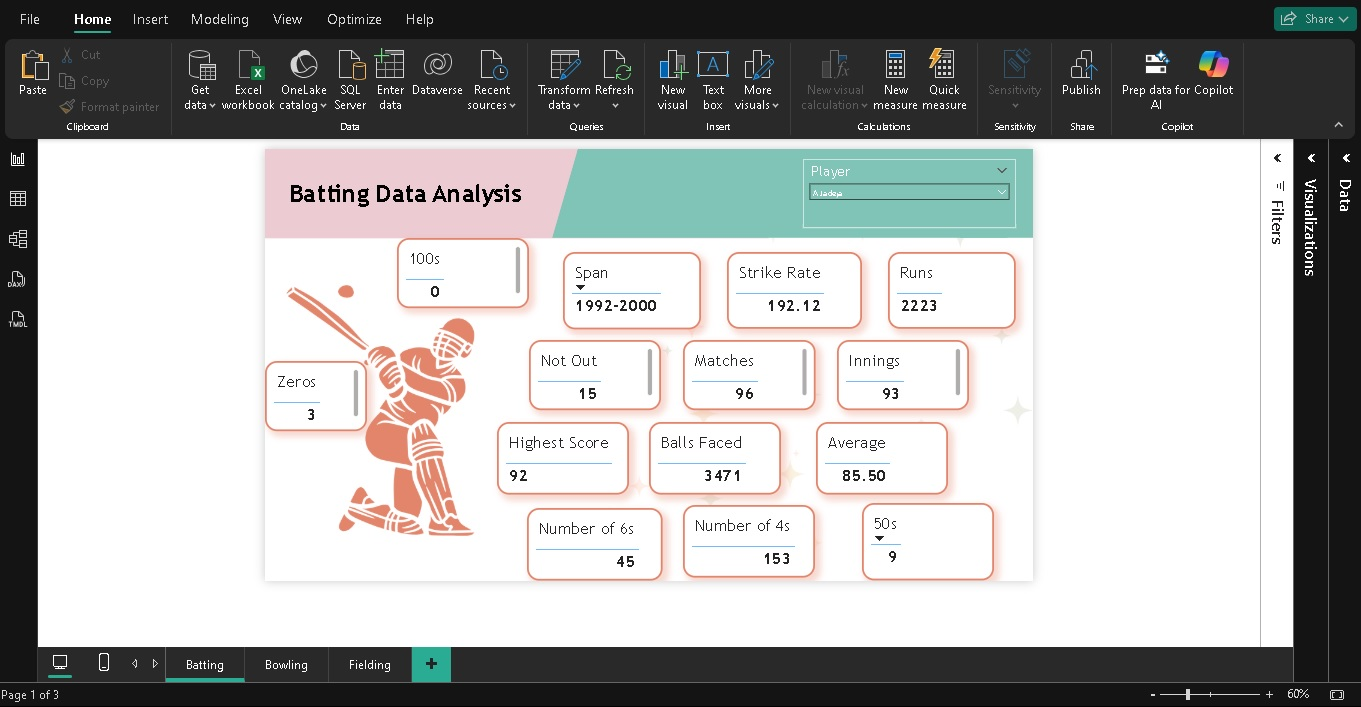

The dashboard page shown, as its layout file describes it:
{"tool":"powerbi","page":{"name":"Batting","canvas":[1280,720],"ordinal":0},"visuals":[{"type":"shape","box":[0,0,839.1,148.8],"z":0},{"type":"shape","box":[478.3,0,801.7,148.3],"z":1000},{"type":"shape","box":[1158.3,0,121.7,148.3],"z":2000},{"type":"slicer","fields":{"Values":["batting.Player"]},"box":[896.7,16.7,355,115],"z":3000},{"type":"tableEx","fields":{"Values":["batting.Span"]},"box":[497.1,171.4,230,128.6],"z":3002},{"type":"tableEx","fields":{"Values":["Sum(batting.SR)"]},"box":[770,171.7,225,128.3],"z":3003},{"type":"tableEx","fields":{"Values":["Sum(batting.Runs)"]},"box":[1038.3,171.7,213.3,128.3],"z":3004},{"type":"tableEx","fields":{"Values":["Sum(batting.NO)"]},"box":[440,318.6,220,117.1],"z":3005},{"type":"tableEx","fields":{"Values":["Sum(batting.Mat)"]},"box":[697.1,318.6,221.4,117.1],"z":3006},{"type":"tableEx","fields":{"Values":["Sum(batting.Inns)"]},"box":[952.9,318.6,220,117.1],"z":3007},{"type":"tableEx","fields":{"Values":["batting.HS"]},"box":[387.1,454.3,220,121.4],"z":3008},{"type":"tableEx","fields":{"Values":["Sum(batting.BF)"]},"box":[640,454.3,220,121.4],"z":3009},{"type":"tableEx","fields":{"Values":["Sum(batting.Ave)"]},"box":[918.6,454.3,220,121.4],"z":3010},{"type":"tableEx","fields":{"Values":["Sum(batting.6s)"]},"box":[437.1,598.6,225.7,121.4],"z":3011},{"type":"tableEx","fields":{"Values":["Sum(batting.50)"]},"box":[995.7,590,220,128.6],"z":3013},{"type":"tableEx","fields":{"Values":["Sum(batting.4s)"]},"box":[697.1,592.9,220,121.4],"z":3014},{"type":"tableEx","fields":{"Values":["Sum(batting.100)"]},"box":[220,148.3,220,116.7],"z":3015},{"type":"tableEx","fields":{"Values":["Sum(batting.0)"]},"box":[0,353.3,170,116.7],"z":3016}]}

Visuals, with their boxes on the page's 1280x720 design canvas (x1, y1, x2, y2). These are canvas units, not pixel positions in the 1361x707 screenshot, which may show the page scaled, cropped or inside an application window:
shape: region(0, 0, 839, 149)
shape: region(478, 0, 1280, 148)
shape: region(1158, 0, 1280, 148)
slicer - batting.Player: region(897, 17, 1252, 132)
tableEx - batting.Span: region(497, 171, 727, 300)
tableEx - Sum(batting.SR): region(770, 172, 995, 300)
tableEx - Sum(batting.Runs): region(1038, 172, 1252, 300)
tableEx - Sum(batting.NO): region(440, 319, 660, 436)
tableEx - Sum(batting.Mat): region(697, 319, 918, 436)
tableEx - Sum(batting.Inns): region(953, 319, 1173, 436)
tableEx - batting.HS: region(387, 454, 607, 576)
tableEx - Sum(batting.BF): region(640, 454, 860, 576)
tableEx - Sum(batting.Ave): region(919, 454, 1139, 576)
tableEx - Sum(batting.6s): region(437, 599, 663, 720)
tableEx - Sum(batting.50): region(996, 590, 1216, 719)
tableEx - Sum(batting.4s): region(697, 593, 917, 714)
tableEx - Sum(batting.100): region(220, 148, 440, 265)
tableEx - Sum(batting.0): region(0, 353, 170, 470)
